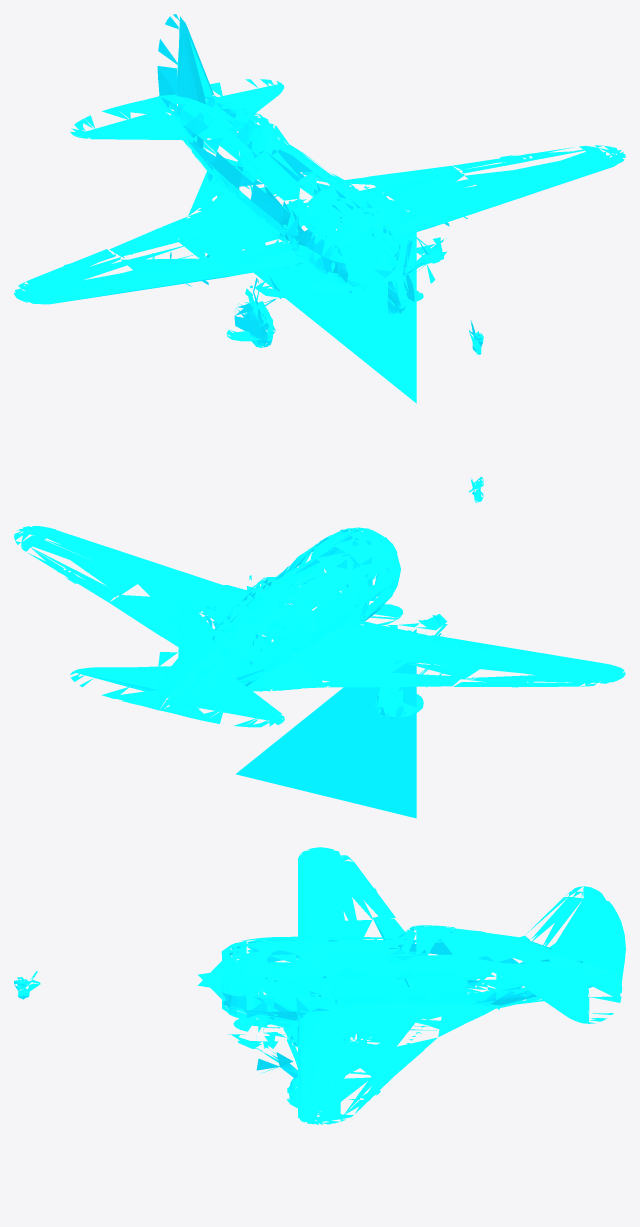
The model's file is PRAF503.glb.
3 views of the same model, one above another, from view 1: azimuth 30°, elevation 25°; view 2: azimuth 150°, elevation 25°; view 3: azimuth 270°, elevation 25° (orthographic). The views are drawn at different scales.
Parts seen in each view (by area): view 1: misc; view 2: misc; view 3: misc.
Boxes of the visible parts, <box> form: misc: <box>14,14,625,403</box>; misc: <box>14,476,625,818</box>; misc: <box>14,847,625,1124</box>.
Bounding box in the file's own units: 0.6721 × 0.3216 × 0.6262.
